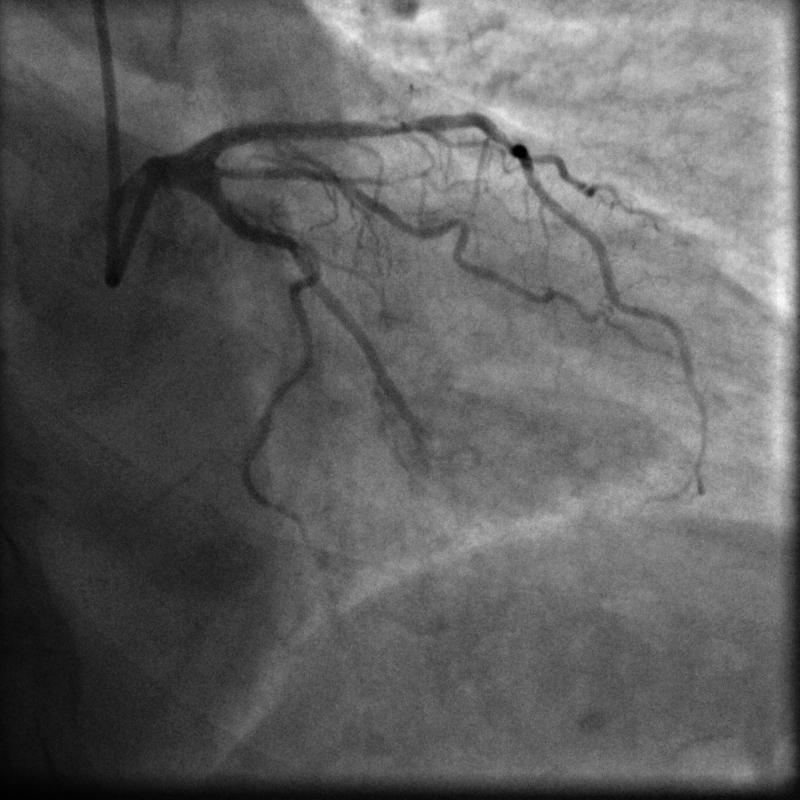Stenosis: (362, 116, 426, 138)
